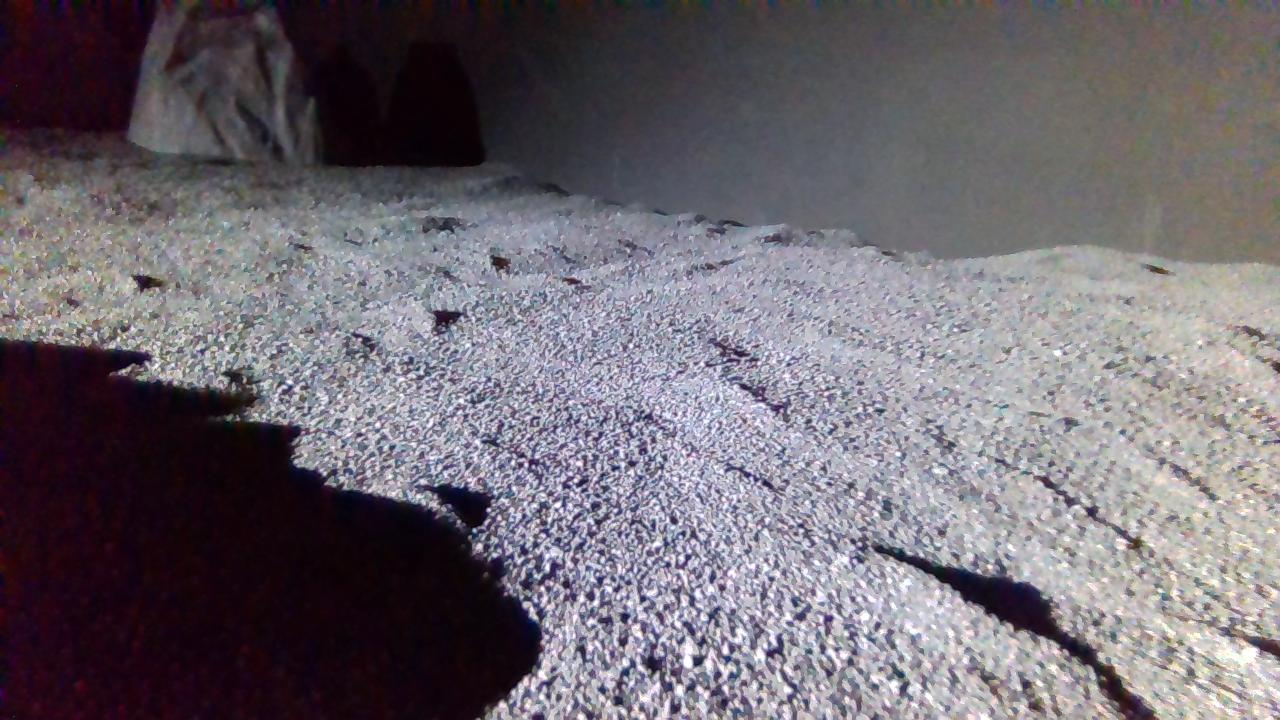rock: (126, 2, 314, 163)
